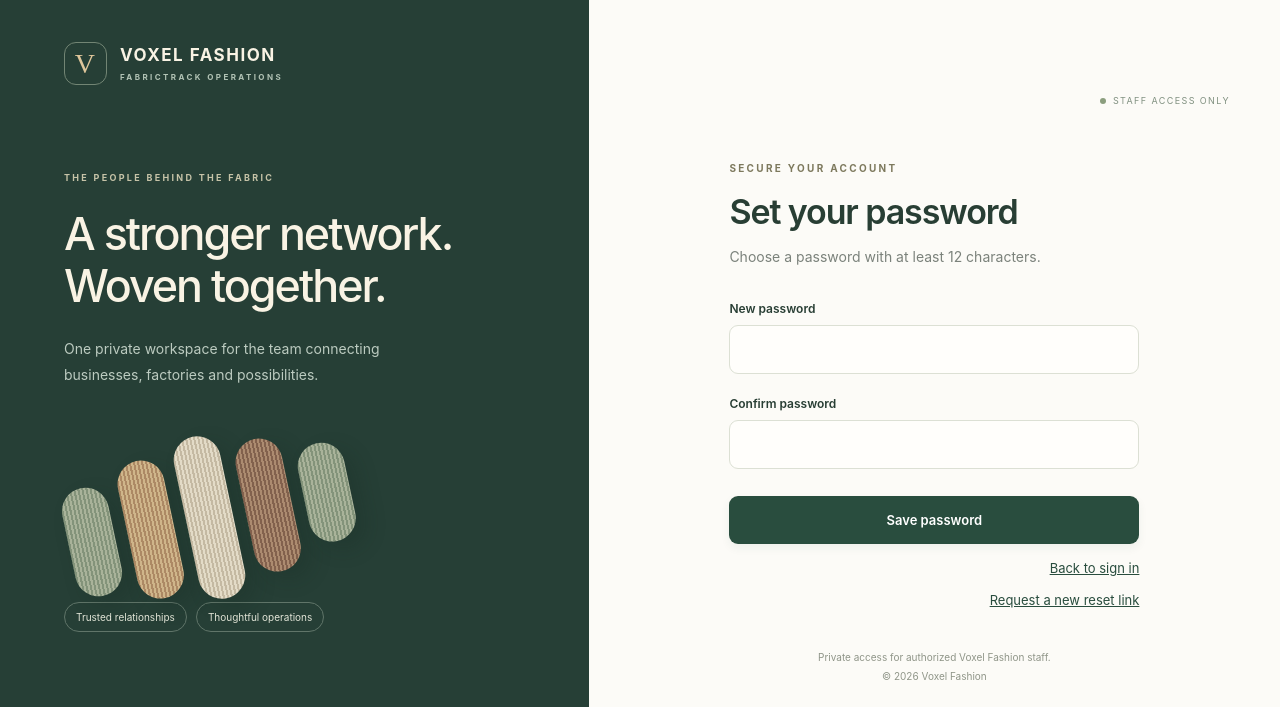
checks password confirmation before updating the provider
The image size is (1280, 707).
In the password field labelled "New password": [934, 349] box [729, 325, 1139, 374], type "long-password-one"
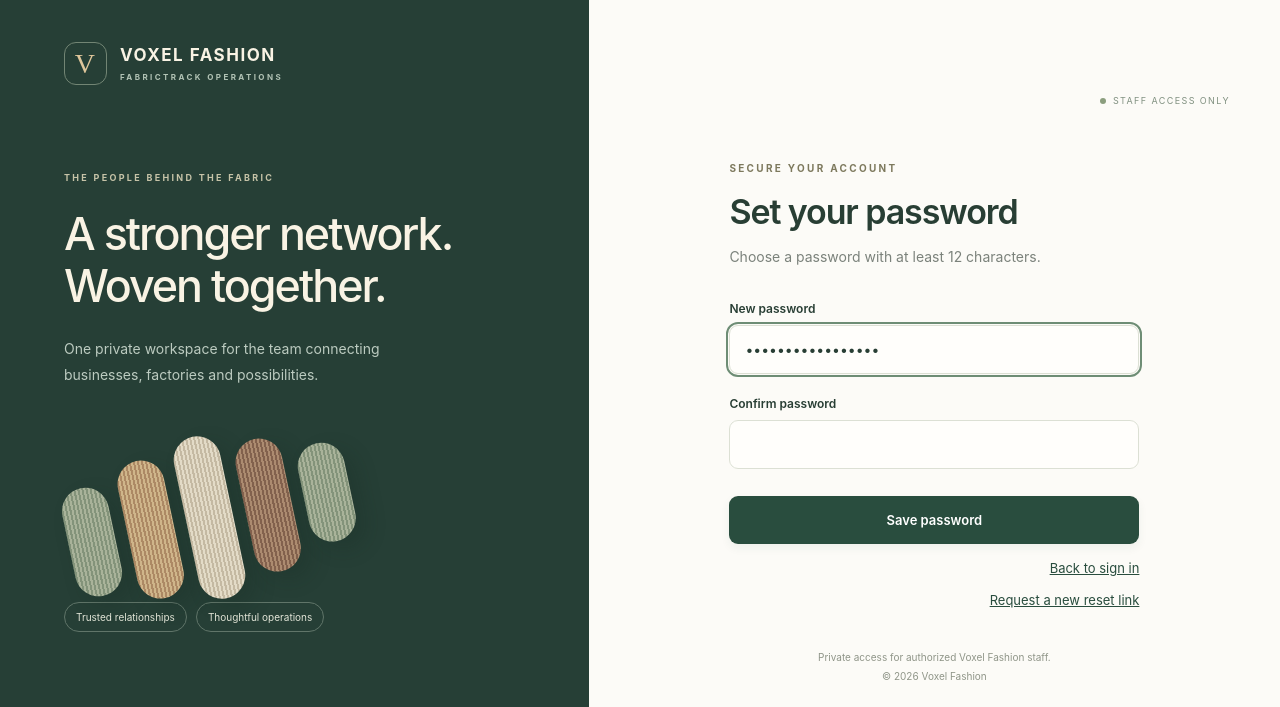
In the password field labelled "Confirm password": [934, 444] box [729, 420, 1139, 469], type "long-password-two"
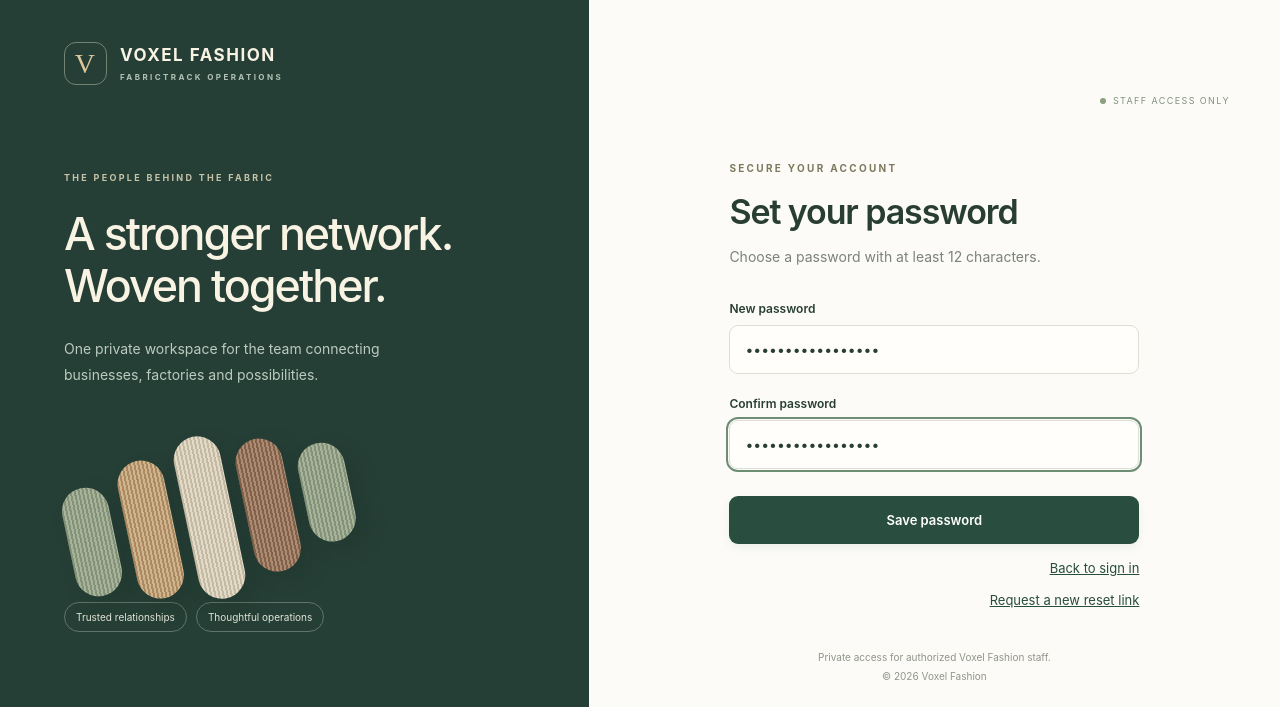
Click the button "Save password": [934, 520] box [729, 496, 1139, 544]
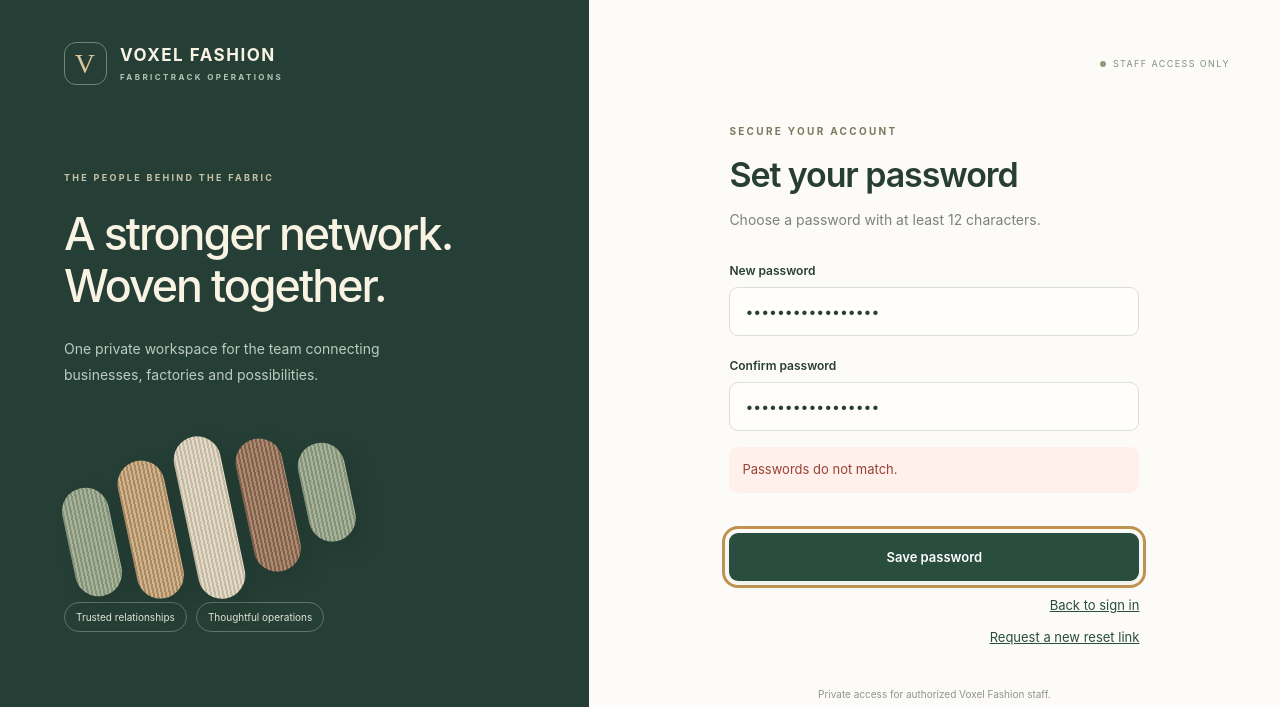
Expected: the message shows "Passwords do not match", [742, 461, 898, 477]
